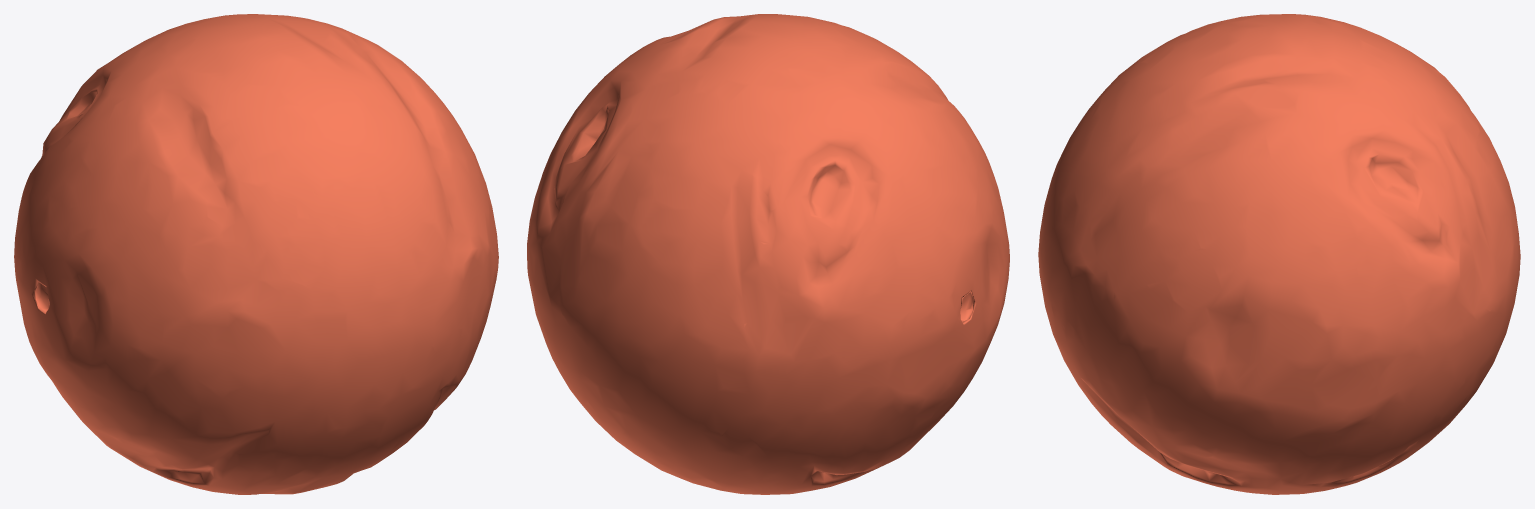
The model's file is ball-round.glb.
The picture shows the model from 3 angles, left to right: view 1: azimuth 30°, elevation 25°; view 2: azimuth 150°, elevation 25°; view 3: azimuth 270°, elevation 25°; orthographic projection.
Visible parts, largest first — view 1: tripo_node_435dc5e6-ca40-4b42-811f-a285847f3e9b; view 2: tripo_node_435dc5e6-ca40-4b42-811f-a285847f3e9b; view 3: tripo_node_435dc5e6-ca40-4b42-811f-a285847f3e9b.
Part boxes in pixels (x1,y1,x2,y2): tripo_node_435dc5e6-ca40-4b42-811f-a285847f3e9b: (14,14,498,494); tripo_node_435dc5e6-ca40-4b42-811f-a285847f3e9b: (527,14,1009,494); tripo_node_435dc5e6-ca40-4b42-811f-a285847f3e9b: (1038,14,1520,494).
Size of the model in its own units: 0.9914 by 1 by 0.9995.
